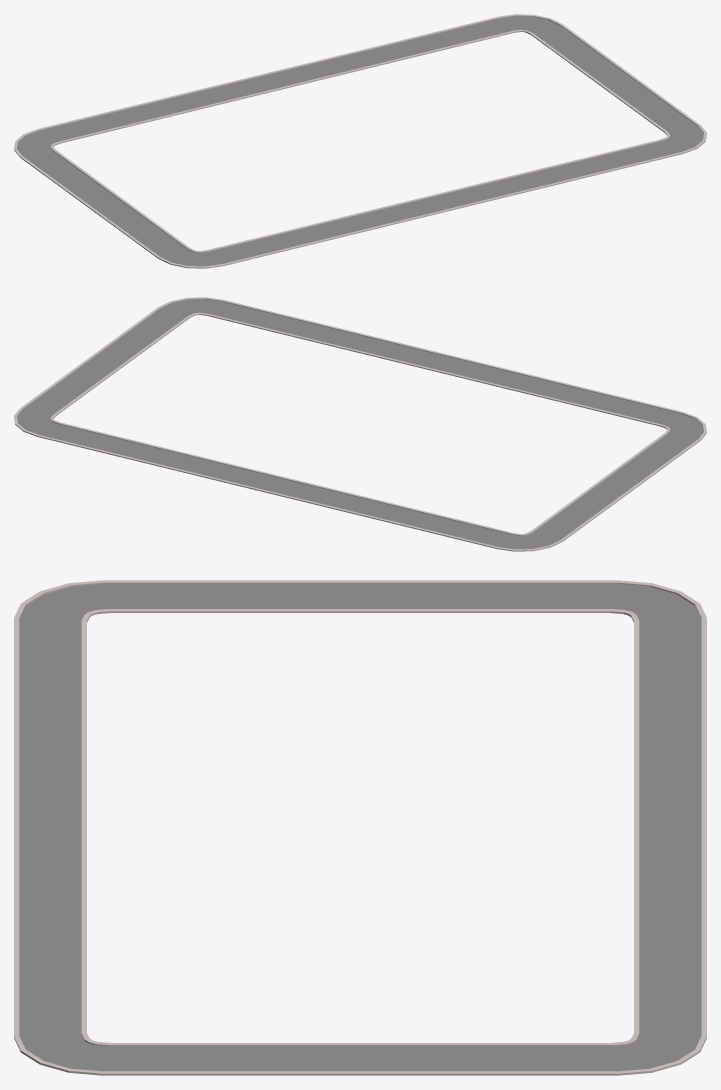
Rendered from Track.fbx.
3 views of the same model, one above another, from view 1: azimuth 30°, elevation 25°; view 2: azimuth 150°, elevation 25°; view 3: azimuth 270°, elevation 25° (orthographic). The views are drawn at different scales.
Visible parts, largest first — view 1: Track; view 2: Track; view 3: Track.
Boxes of the visible parts, x1,y1,x2,y2 form: Track: [14, 14, 706, 268]; Track: [14, 297, 706, 551]; Track: [14, 580, 706, 1075].
Size of the model in its own units: 2584 by 4.81 by 1534.
